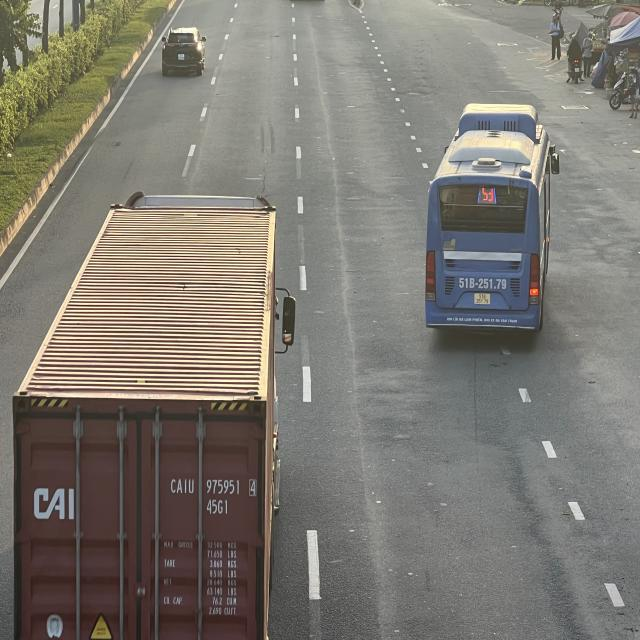car: (162, 28, 209, 78)
coach: (426, 109, 557, 342)
container: (11, 196, 300, 640)
